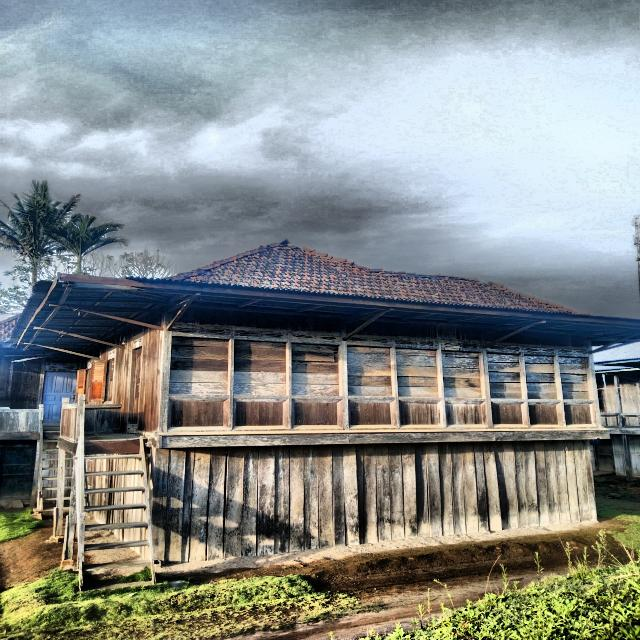door: (41, 371, 78, 430), (132, 348, 142, 424)
ornamen: (168, 397, 229, 430), (232, 398, 288, 429), (347, 398, 397, 429), (291, 399, 342, 429), (398, 400, 444, 428), (445, 401, 488, 428), (491, 401, 528, 427), (528, 402, 564, 427), (564, 402, 598, 427)
roof: (12, 241, 640, 358)
stair: (75, 412, 156, 589), (33, 420, 73, 512)
wall: (155, 439, 597, 566), (166, 307, 344, 435), (347, 322, 489, 432), (486, 331, 598, 431), (75, 324, 160, 432)
window: (169, 336, 230, 394), (233, 339, 288, 395), (292, 342, 339, 396), (346, 345, 393, 396), (395, 348, 439, 397), (442, 351, 482, 398), (487, 353, 522, 398), (523, 355, 557, 399), (559, 357, 589, 400), (88, 357, 115, 402), (75, 368, 91, 404)
